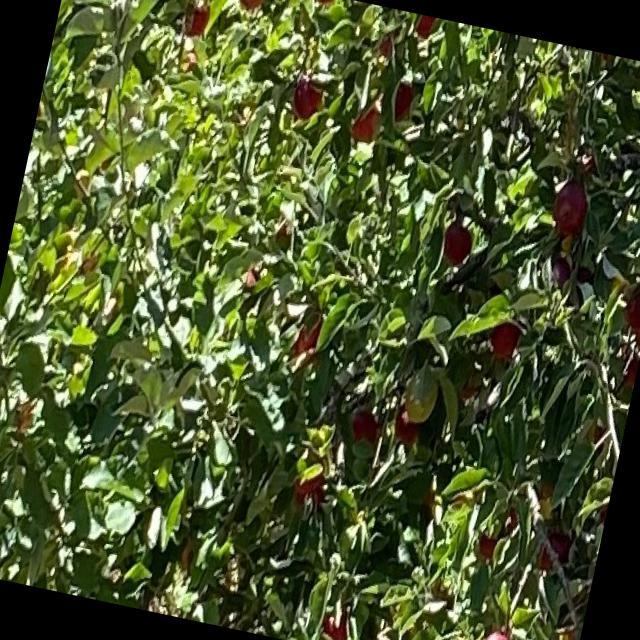100-_ripeness: (477, 498, 520, 562), (550, 178, 590, 236), (438, 216, 477, 268), (387, 398, 424, 447), (347, 99, 385, 145), (291, 307, 326, 356), (489, 316, 524, 363), (289, 74, 324, 121), (290, 459, 326, 503), (346, 402, 382, 444), (389, 73, 418, 124), (179, 0, 214, 40), (621, 284, 639, 335), (231, 0, 271, 14), (474, 627, 516, 639)
